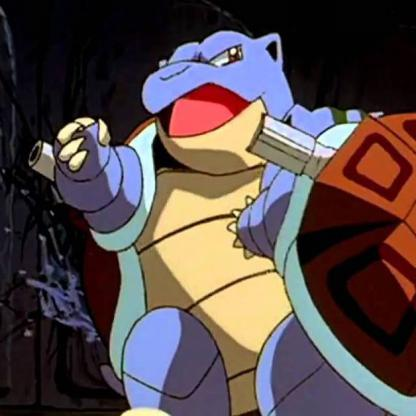Blastoise: (42, 39, 299, 416)
